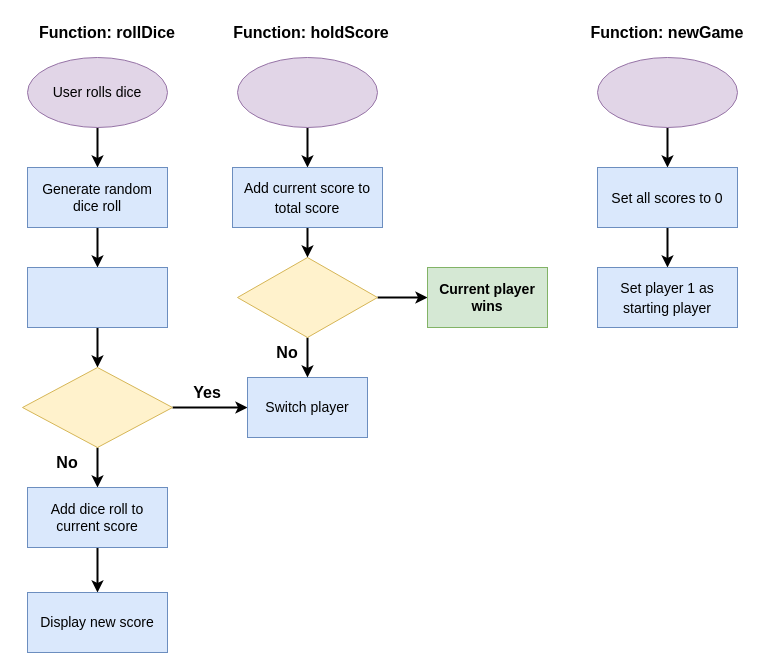
The diagram is 774 pixels wide and 670 high, and some of its shapes have lost their labels. The shapes that lost their labels are listed below. From the top down, each one's box as (x1, y1, x2, y2) in pixels, then its label:
(236, 56, 378, 128): User holds score
(596, 56, 738, 128): User resets game
(26, 266, 168, 328): Display dice roll
(236, 256, 378, 338): Score >= 100
(22, 366, 172, 448): Is it a 1?
